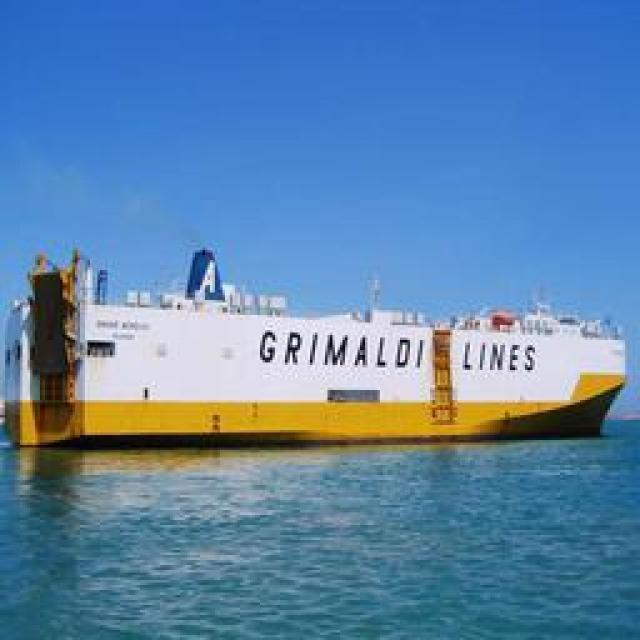ship2: (0, 247, 629, 449)
